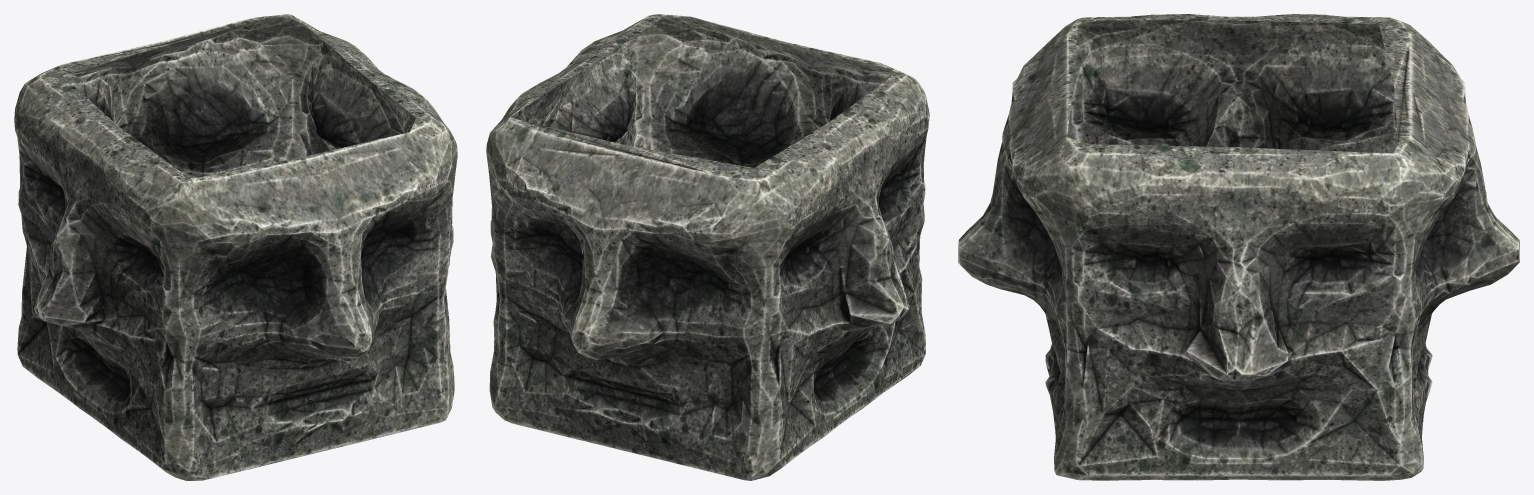
The model's file is newCube-transformed.glb.
3 views of the same model, side by side, from view 1: azimuth 30°, elevation 25°; view 2: azimuth 150°, elevation 25°; view 3: azimuth 270°, elevation 25° (orthographic). The views are drawn at different scales.
Parts seen in each view (by area): view 1: Cube; view 2: Cube; view 3: Cube.
Boxes of the visible parts, bbox=[...] form: Cube: bbox=[14, 14, 457, 480]; Cube: bbox=[486, 14, 929, 480]; Cube: bbox=[958, 14, 1519, 480].
Size of the model in its own units: 469 by 342 by 522.
1 material, 1 textured.
